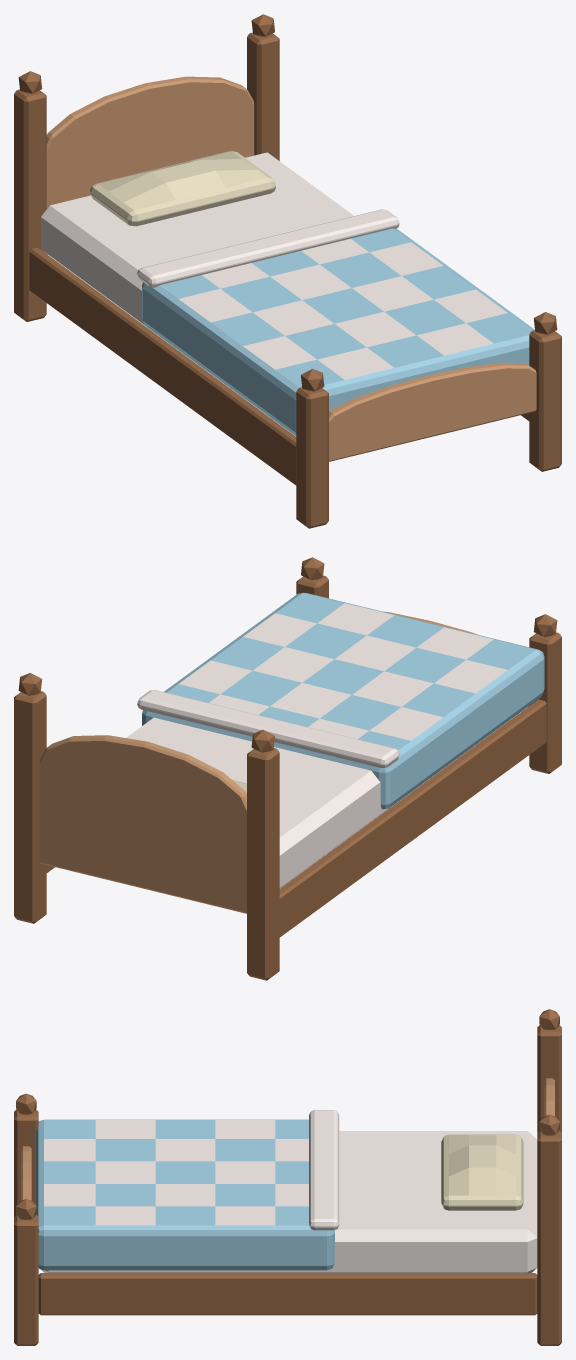
Rendered from bed.glb.
The picture shows the model from 3 angles, top to bottom: view 1: azimuth 30°, elevation 25°; view 2: azimuth 150°, elevation 25°; view 3: azimuth 270°, elevation 25°; orthographic projection. The views are drawn at different scales.
Parts seen in each view (by area): view 1: bed; view 2: bed; view 3: bed.
Boxes of the visible parts, box(x1,y1,x2,y2) form: bed: box(14, 14, 561, 528); bed: box(14, 557, 561, 980); bed: box(14, 1009, 561, 1345).
Size of the model in its own units: 1 by 0.9166 by 2.
Materials: 1 (1 with a texture image).
